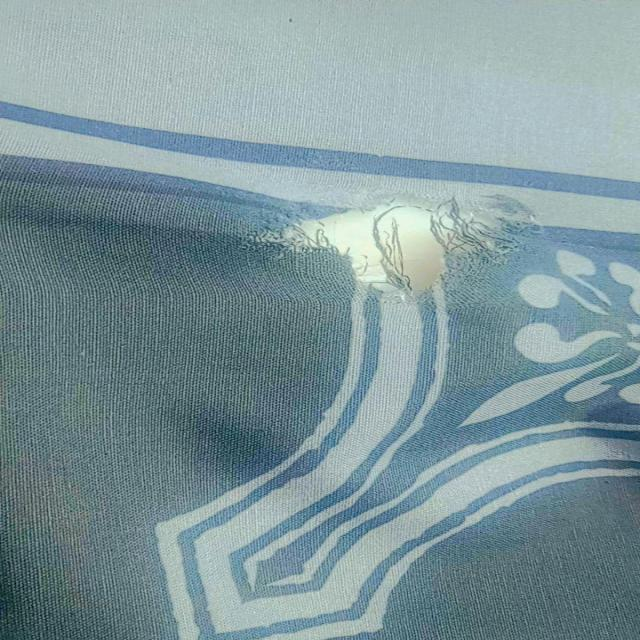cut: (238, 188, 550, 296)
